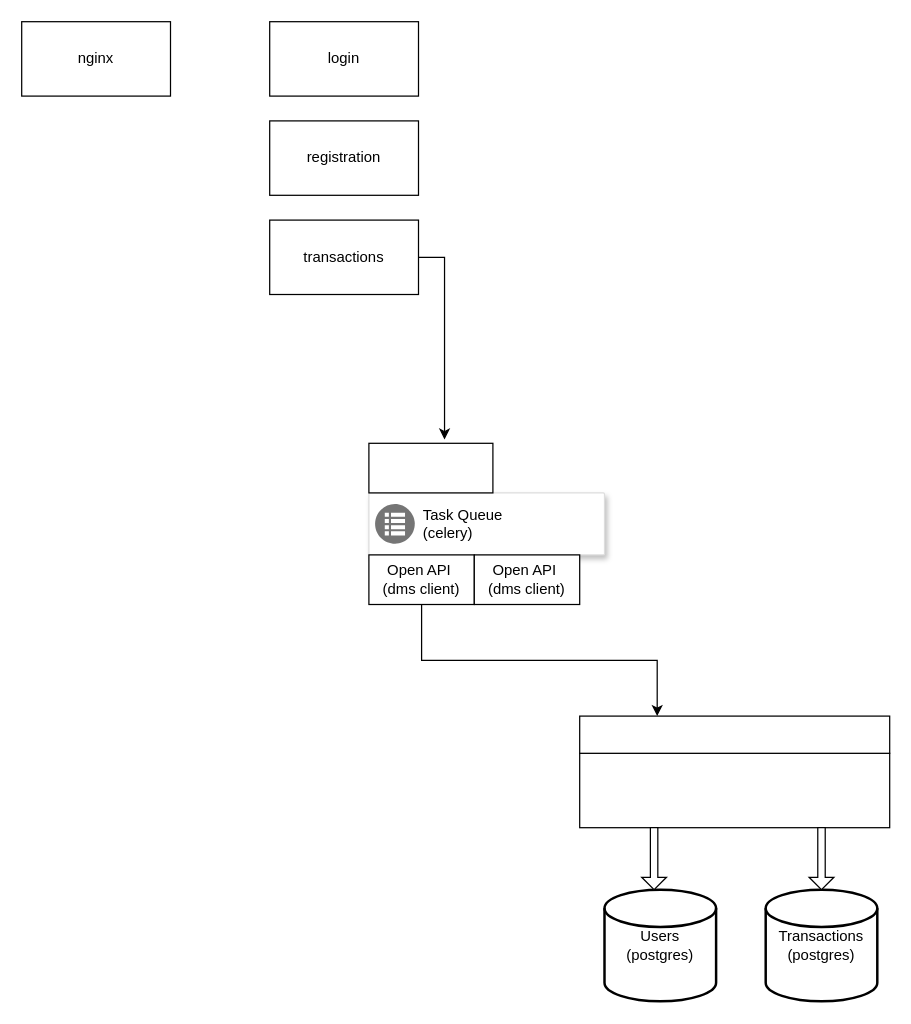
This 911x1024 diagram has some shape labels left out. Each missing label, with the centre of its shape:
"Data Management Service (DMS)" goes at (734,790).
"Open API (celery service)" goes at (430,467).
"Open API (dms service)" goes at (734,734).
